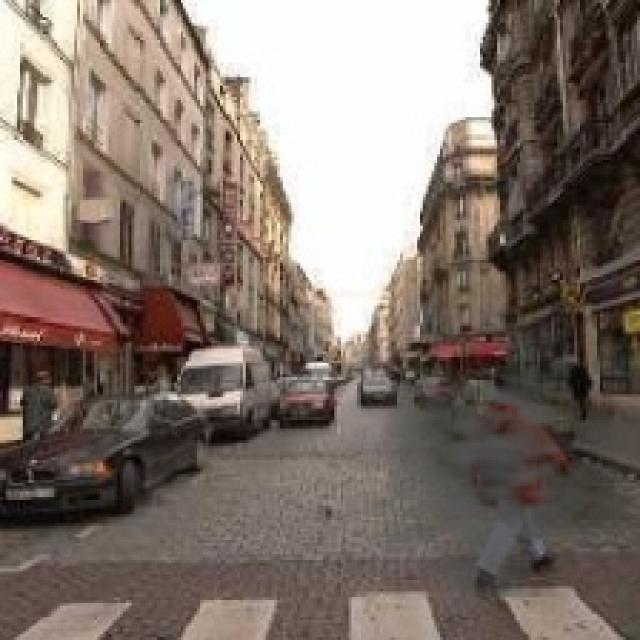Smoke: (334, 346, 614, 598)
